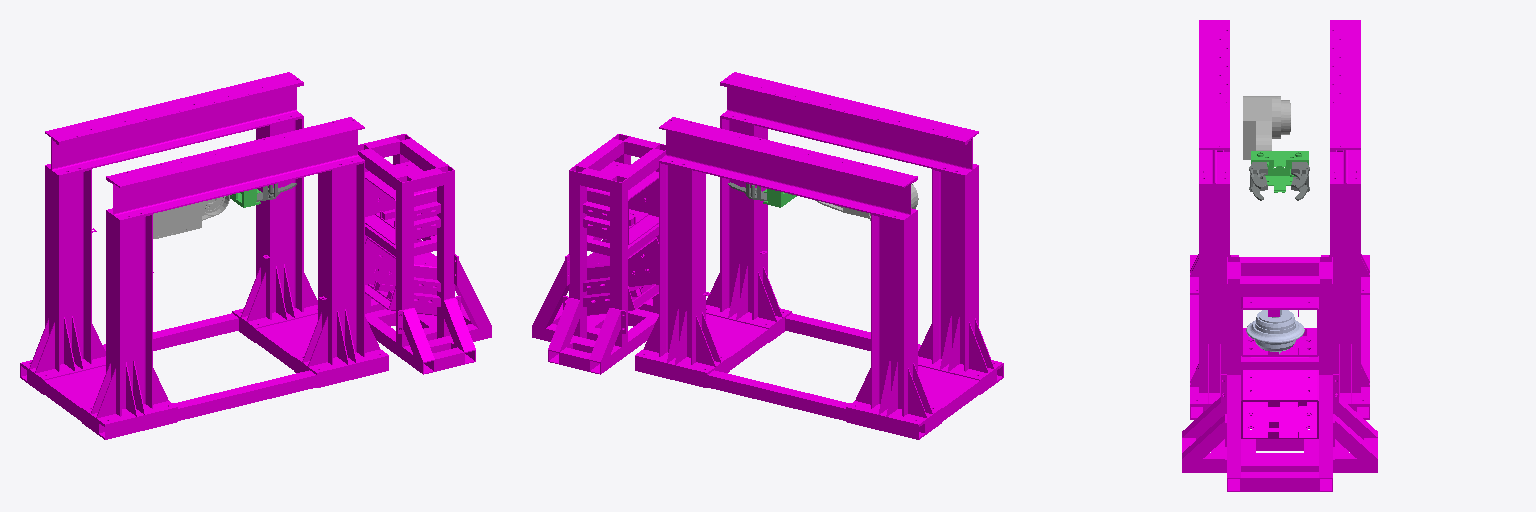
robot.urdf — ur8_arm_robot:
<?xml version="1.0" ?>
<!-- =================================================================================== -->
<!-- |    This document was autogenerated by xacro from /home/zhan/Projects/robot_grasp_project/code/ROBOT/src/my_robot_description/urdf/ur8_arm_robot/my_ur8_arm_robot.xacro | -->
<!-- |    EDITING THIS FILE BY HAND IS NOT RECOMMENDED                                 | -->
<!-- =================================================================================== -->
<robot name="ur8_arm_robot">
  <link name="world_link">
    <!-- mass=0 让 Gazebo 把 world_link 当作静态锚点，不受重力下落 -->
    <inertial>
      <origin rpy="0 0 0" xyz="0 0 0"/>
      <mass value="0.0"/>
      <inertia ixx="0.001" ixy="0" ixz="0" iyy="0.001" iyz="0" izz="0.001"/>
    </inertial>
  </link>
  <link name="base_link">
    <inertial>
      <origin rpy="0 0 0" xyz="1.5846968960167 6.11398890853487E-05 -0.775179775404272"/>
      <mass value="1907.41473384"/>
      <inertia ixx="3637.15037900" ixy="0" ixz="0" iyy="2785.35216803" iyz="0" izz="5500.0"/>
    </inertial>
    <visual>
      <origin rpy="0 0 0" xyz="0 0 0"/>
      <geometry>
        <mesh filename="meshes/base_link.STL"/>
      </geometry>
      <material name="">
        <color rgba="1 0 0.956862745098039 1"/>
      </material>
    </visual>
      <collision><origin xyz="2.0600 0.0000 -1.0675" rpy="0 0 0"/><geometry><cylinder radius="2.2660" length="2.7225"/></geometry></collision>
    
  </link>
  <joint name="base_joint" type="fixed">
    <origin rpy="0 0 0" xyz="0 0 2.30499999999997"/>
    <parent link="world_link"/>
    <child link="base_link"/>
    <axis xyz="0 0 0"/>
  </joint>
  <link name="link1">
    <inertial>
      <origin rpy="0 0 0" xyz="0.0603922336440408 0.0275464750533206 1.06605487618985"/>
      <mass value="551.54733752"/>
      <inertia ixx="145.63389370" ixy="2.277776496" ixz="-12.77374849" iyy="169.22568119" iyz="-8.88482954" izz="48.049666198"/>
    </inertial>
    <visual>
      <origin rpy="0 0 0" xyz="0 0 0"/>
      <geometry>
        <mesh filename="meshes/link1.STL"/>
      </geometry>
      <material name="">
        <color rgba="0.529411764705882 0.549019607843137 0.549019607843137 1"/>
      </material>
    </visual>
      <collision><origin xyz="0.0000 -0.0846 0.9980" rpy="0 0 0"/><geometry><cylinder radius="0.5835" length="1.7644"/></geometry></collision>
    
  </link>
  <joint name="joint1" type="prismatic">
    <origin rpy="1.5707963267949 0 1.5707963267949" xyz="0 0 0"/>
    <parent link="base_link"/>
    <child link="link1"/>
    <axis xyz="0 0 1"/>
    <limit effort="30000" lower="0" upper="0.9" velocity="0.3"/>
  </joint>
  <link name="link2">
    <inertial>
      <origin rpy="0 0 0" xyz="0.322167586538568 0.00077562500279192 0.0692507520912388"/>
      <mass value="222.45326799"/>
      <inertia ixx="19.20512831" ixy="0.00277484" ixz="0.38041803" iyy="17.70157815" iyz="0.03951501" izz="5.15823428"/>
    </inertial>
    <visual>
      <origin rpy="0 0 0" xyz="0 0 0"/>
      <geometry>
        <mesh filename="meshes/link2.STL"/>
      </geometry>
      <material name="">
        <color rgba="0.752941176470588 0.752941176470588 0.752941176470588 1"/>
      </material>
    </visual>
      <collision><origin xyz="0.3126 0.0000 0.0605" rpy="0 0 0"/><geometry><cylinder radius="0.5582" length="0.4521"/></geometry></collision>
    
  </link>
  <joint name="joint2" type="revolute">
    <origin rpy="3.14159265358979 1.5707963267949 0" xyz="0.194 -0.0645999999999746 1.303"/>
    <parent link="link1"/>
    <child link="link2"/>
    <axis xyz="0 0 1"/>
    <limit effort="25000" lower="0" upper="3.14" velocity="0.8"/>
  </joint>
  <link name="link3">
    <inertial>
      <origin rpy="0 0 0" xyz="0.229433951620328 0.000277653268500218 0.118891752311527"/>
      <mass value="127.25594144"/>
      <inertia ixx="7.09334003" ixy="0.00486341" ixz="0.16603774" iyy="6.455412365" iyz="0.00633604" izz="2.357779031"/>
    </inertial>
    <visual>
      <origin rpy="0 0 0" xyz="0 0 0"/>
      <geometry>
        <mesh filename="meshes/link3.STL"/>
      </geometry>
      <material name="">
        <color rgba="0.752941176470588 0.752941176470588 0.752941176470588 1"/>
      </material>
    </visual>
      <collision><origin xyz="0.1960 0.0000 0.1325" rpy="0 0 0"/><geometry><cylinder radius="0.4070" length="0.3355"/></geometry></collision>
    
  </link>
  <joint name="joint3" type="revolute">
    <origin rpy="0 0 3.14159265358979" xyz="0.609999999999998 0 0.219000000000001"/>
    <parent link="link2"/>
    <child link="link3"/>
    <axis xyz="0 0 1"/>
    <limit effort="22000" lower="-3.14" upper="0" velocity="0.9"/>
  </joint>
  <link name="link4">
    <inertial>
      <origin rpy="0 0 0" xyz="0.122732786756185 -0.0500949925882772 0.205443375402954"/>
      <mass value="187.87093244"/>
      <inertia ixx="10.50305026" ixy="-0.96658849" ixz="0.23910359" iyy="3.99084189" iyz="0.61890927" izz="9.23939967"/>
    </inertial>
    <visual>
      <origin rpy="0 0 0" xyz="0 0 0"/>
      <geometry>
        <mesh filename="meshes/link4.STL"/>
      </geometry>
      <material name="">
        <color rgba="0.752941176470588 0.752941176470588 0.752941176470588 1"/>
      </material>
    </visual>
      <collision><origin xyz="0.1922 -0.0187 0.2090" rpy="0 0 0"/><geometry><cylinder radius="0.4029" length="0.4598"/></geometry></collision>
    
  </link>
  <joint name="joint4" type="revolute">
    <origin rpy="-1.5707963267949 0 -1.5707963267949" xyz="0.512999999999999 0 0.129999999999999"/>
    <parent link="link3"/>
    <child link="link4"/>
    <axis xyz="0 0 -1"/>
    <limit effort="20000" lower="-0.1745" upper="0.1745" velocity="1"/>
  </joint>
  <link name="link5">
    <inertial>
      <origin rpy="0 0 0" xyz="0.411195858367017 6.97142193929468E-05 0.0703008048528007"/>
      <mass value="185.18127937"/>
      <inertia ixx="13.11370264" ixy="0.00969962" ixz="0.68649935" iyy="12.48257290" iyz="0.01337311" izz="3.355581956"/>
    </inertial>
    <visual>
      <origin rpy="0 0 0" xyz="0 0 0"/>
      <geometry>
        <mesh filename="meshes/link5.STL"/>
      </geometry>
      <material name="">
        <color rgba="0.752941176470588 0.752941176470588 0.752941176470588 1"/>
      </material>
    </visual>
      <collision><origin xyz="0.3377 0.0000 0.0850" rpy="0 0 0"/><geometry><cylinder radius="0.5387" length="0.4400"/></geometry></collision>
    
  </link>
  <joint name="joint5" type="revolute">
    <origin rpy="-1.5707963267949 1.5707963267949 0" xyz="0.375999999999997 -0.0399999999999946 0.235500000000004"/>
    <parent link="link4"/>
    <child link="link5"/>
    <axis xyz="0 0 1"/>
    <limit effort="15000" lower="-3.14" upper="0" velocity="1.2"/>
  </joint>
  <link name="link6">
    <inertial>
      <origin rpy="0 0 0" xyz="0.355421358371012 0.0089123076176113 0.0959898870594774"/>
      <mass value="125.17866784"/>
      <inertia ixx="10.63907105" ixy="0.04557751" ixz="-0.15646614" iyy="9.97353524" iyz="-0.2061528" izz="1.29188035"/>
    </inertial>
    <visual>
      <origin rpy="0 0 0" xyz="0 0 0"/>
      <geometry>
        <mesh filename="meshes/link6.STL"/>
      </geometry>
      <material name="">
        <color rgba="0.752941176470588 0.752941176470588 0.752941176470588 1"/>
      </material>
    </visual>
      <collision><origin xyz="0.3506 0.0012 0.0804" rpy="0 0 0"/><geometry><cylinder radius="0.5515" length="0.2430"/></geometry></collision>
    
  </link>
  <joint name="joint6" type="revolute">
    <origin rpy="0 0 -3.14159265358979" xyz="0.649999999999999 0 0.225000000000004"/>
    <parent link="link5"/>
    <child link="link6"/>
    <axis xyz="0 0 1"/>
    <limit effort="15000" lower="0" upper="3.14" velocity="1"/>
  </joint>
  <link name="link7">
    <inertial>
      <origin rpy="0 0 0" xyz="0.0596188962912736 9.76126392671639E-05 0.0878434419731533"/>
      <mass value="27.72436675"/>
      <inertia ixx="0.32518947" ixy="7.012e-06" ixz="0.01846554" iyy="0.26482831" iyz="2.2309e-05" izz="0.21490676"/>
    </inertial>
    <visual>
      <origin rpy="0 0 0" xyz="0 0 0"/>
      <geometry>
        <mesh filename="meshes/link7.STL"/>
      </geometry>
      <material name="">
        <color rgba="0.752941176470588 0.752941176470588 0.752941176470588 1"/>
      </material>
    </visual>
      <collision><origin xyz="0.0425 -0.0028 0.1050" rpy="0 0 0"/><geometry><cylinder radius="0.1716" length="0.2310"/></geometry></collision>
    
  </link>
  <joint name="joint7" type="revolute">
    <origin rpy="3.14159265358979 0 0" xyz="0.71000000000002 0 0.0719999999999967"/>
    <parent link="link6"/>
    <child link="link7"/>
    <axis xyz="0 0 1"/>
    <limit effort="12000" lower="-3.14" upper="3.14" velocity="1.3"/>
  </joint>
  <link name="link8">
    <inertial>
      <origin rpy="0 0 0" xyz="9.49166006902757E-09 -2.12063889226677E-08 0.0928335712615604"/>
      <mass value="57.61027620"/>
      <inertia ixx="1.34765816" ixy="0.03561661" ixz="-0.44869963" iyy="2.27166836" iyz="0.00167257" izz="1.80503759"/>
    </inertial>
    <visual>
      <origin rpy="0 0 0" xyz="0 0 0"/>
      <geometry>
        <mesh filename="meshes/link8.STL"/>
      </geometry>
      <material name="">
        <color rgba="0.341176470588235 0.83921568627451 0.411764705882353 1"/>
      </material>
    </visual>
      <collision><origin xyz="0.0000 0.0000 0.1626" rpy="0 0 0"/><geometry><cylinder radius="0.2640" length="0.3578"/></geometry></collision>
    
  </link>
  <joint name="joint8" type="revolute">
    <origin rpy="0 1.5707963267949 0" xyz="0.182499999999997 0 0.104999999999999"/>
    <parent link="link7"/>
    <child link="link8"/>
    <axis xyz="0 0 1"/>
    <limit effort="10000" lower="-3.14" upper="3.14" velocity="1"/>
  </joint>
  <link name="link_tool">
    <inertial>
      <origin rpy="0 0 0" xyz="0 0 0"/>
      <mass value="0.1"/>
      <inertia ixx="0.001" ixy="0" ixz="0" iyy="0.001" iyz="0" izz="0.001"/>
    </inertial>
  </link>
  <joint name="joint_tool" type="fixed">
    <origin rpy="0 0 0" xyz="0 0 0.460000000000001"/>
    <parent link="link8"/>
    <child link="link_tool"/>
    <axis xyz="0 0 0"/>
  </joint>
  <link name="link_grasp_base">
    <inertial>
      <origin rpy="0 0 0" xyz="0 0 0"/>
      <mass value="0.1"/>
      <inertia ixx="0.001" ixy="0" ixz="0" iyy="0.001" iyz="0" izz="0.001"/>
    </inertial>
  </link>
  <joint name="joint_grasp_base" type="fixed">
    <origin rpy="1.5707963267949 -1.5707963267949 0" xyz="0 0 0"/>
    <parent link="link_tool"/>
    <child link="link_grasp_base"/>
    <axis xyz="0 0 0"/>
  </joint>
  <link name="link_grasp_left">
    <inertial>
      <origin rpy="0 0 0" xyz="0.192574178667514 -0.0231365870139162 0.000631311328087969"/>
      <mass value="15.84360858"/>
      <inertia ixx="0.30757026" ixy="4.1898e-05" ixz="0.01111072" iyy="0.24191696" iyz="-1.5166e-05" izz="0.111258058"/>
    </inertial>
    <visual>
      <origin rpy="0 0 0" xyz="0 0 0"/>
      <geometry>
        <mesh filename="meshes/link_grasp_left.STL"/>
      </geometry>
      <material name="">
        <color rgba="0.529411764705882 0.549019607843137 0.549019607843137 1"/>
      </material>
    </visual>
      <collision><origin xyz="0.2260 -0.0161 0.0000" rpy="0 0 0"/><geometry><cylinder radius="0.3007" length="0.2310"/></geometry></collision>
      <collision><origin xyz="-0.1240 -0.1746 0.0000" rpy="0 0 0"/><geometry><cylinder radius="0.3007" length="0.2310"/></geometry></collision>
      <collision><origin xyz="-0.1746 0.0000 -0.1240" rpy="0 0 0"/><geometry><cylinder radius="0.1155" length="0.6013"/></geometry></collision>
    
  </link>
  <joint name="joint_grasp_left" type="revolute">
    <origin rpy="0 0 0" xyz="-0.35 -0.158500000000002 0"/>
    <parent link="link_grasp_base"/>
    <child link="link_grasp_left"/>
    <axis xyz="0 0 1"/>
    <limit effort="500" lower="-0.1745" upper="0.1745" velocity="0.5"/>
  </joint>
  <link name="link_grasp_right">
    <inertial>
      <origin rpy="0 0 0" xyz="0.192574178667513 0.0231365870139186 -0.000631311328087025"/>
      <mass value="15.84360858"/>
      <inertia ixx="0.30757026" ixy="4.1898e-05" ixz="0.01111072" iyy="0.24191696" iyz="-1.5166e-05" izz="0.111258058"/>
    </inertial>
    <visual>
      <origin rpy="0 0 0" xyz="0 0 0"/>
      <geometry>
        <mesh filename="meshes/link_grasp_right.STL"/>
      </geometry>
      <material name="">
        <color rgba="0.529411764705882 0.549019607843137 0.549019607843137 1"/>
      </material>
    </visual>
      <collision><origin xyz="0.2260 0.0161 0.0000" rpy="0 0 0"/><geometry><cylinder radius="0.3007" length="0.2310"/></geometry></collision>
    
  </link>
  <joint name="joint_grasp_right" type="revolute">
    <origin rpy="0 0 0" xyz="-0.350000000000001 0.158499999999998 0"/>
    <parent link="link_grasp_base"/>
    <child link="link_grasp_right"/>
    <axis xyz="0 0 1"/>
    <limit effort="500" lower="-0.1745" upper="0.1745" velocity="0.5"/>
  </joint>
  <link name="link_knife">
    <inertial>
      <origin rpy="0 0 0" xyz="0.0001046638970994 7.00958256394935E-05 -0.00777174761489619"/>
      <mass value="28.9246716834852"/>
      <inertia ixx="0.413269083135069" ixy="-2.60321422728687e-05" ixz="3.85004912773947e-06" iyy="0.413302041648517" iyz="9.20605717701595e-08" izz="0.497555385805286"/>
    </inertial>
    <visual>
      <origin rpy="0 0 0" xyz="0 0 0"/>
      <geometry>
        <mesh filename="meshes/link_knife.STL"/>
      </geometry>
      <material name="">
        <color rgba="0.792156862745098 0.819607843137255 0.933333333333333 1"/>
      </material>
    </visual>
    
  </link>
  <joint name="joint_knife" type="fixed">
    <origin rpy="0 0 0" xyz="3.68850000000001 -0.0370675931515342 1.28149999999999"/>
    <parent link="world_link"/>
    <child link="link_knife"/>
    <axis xyz="0 0 0"/>
  </joint>
  <!-- 防止 world_link 受重力下落（所有 Gazebo 模式通用） -->
  <gazebo reference="world_link">
    <gravity>false</gravity>
  </gazebo>
</robot>

--- Facts derived from the render (not from the file) ---
3 views of the same robot in one strip: view 1: azimuth 30°, elevation 25°; view 2: azimuth 150°, elevation 25°; view 3: azimuth 270°, elevation 25° (orthographic).
Model ur8_arm_robot with 15 links and 14 joints (9 revolute, 1 prismatic, 4 fixed), rooted at world_link, posed every joint at zero.
Visible links, largest first — view 1: base_link, link5; view 2: base_link; view 3: base_link, link5, link_knife, link8, link_grasp_right, link_grasp_left.
Boxes of the visible links, <box> form: base_link: <box>20,72,491,439</box>; link5: <box>153,195,229,238</box>; base_link: <box>532,72,1003,439</box>; base_link: <box>1182,20,1377,491</box>; link5: <box>1243,96,1290,159</box>; link_knife: <box>1246,310,1304,353</box>; link8: <box>1251,151,1308,192</box>; link_grasp_right: <box>1249,162,1267,200</box>; link_grasp_left: <box>1291,162,1309,200</box>.
Size in the robot's own frame: 4.12 by 1.62 by 2.48 metres.
Meshes: 12 distinct files referenced, 6 mesh visuals loaded (6 binary STL); not drawn: 6 (reference not matched to a file when rendering).
